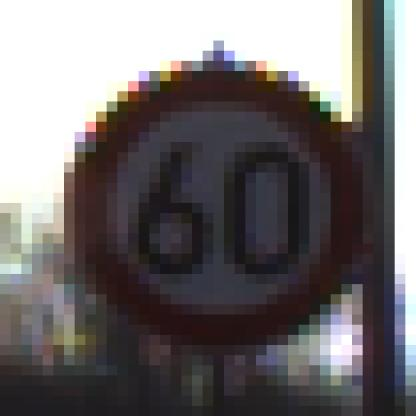Speed Limit 60: (70, 66, 356, 345)
